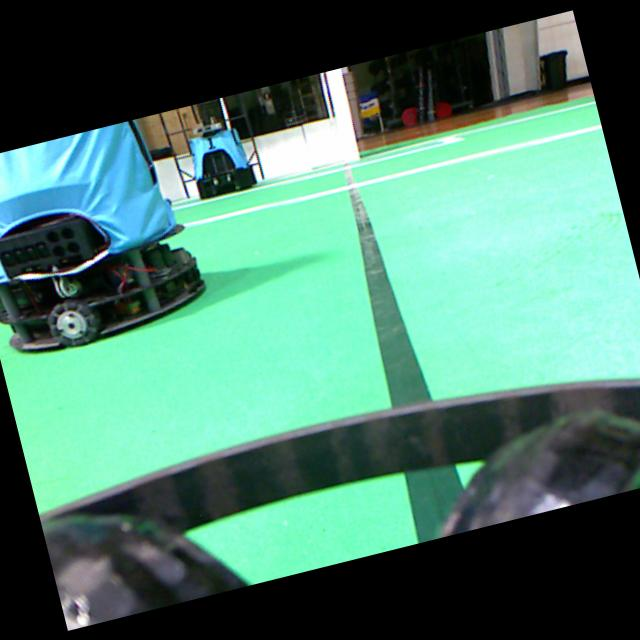goal: (324, 68, 359, 161)
